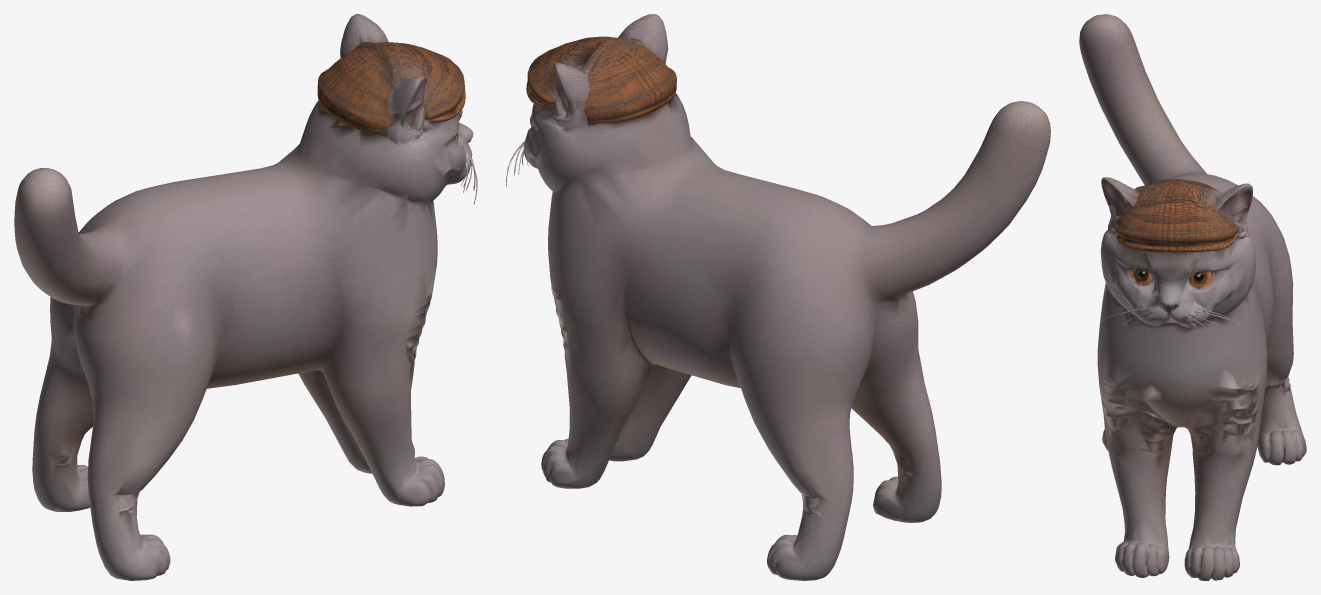
Rendered from TUPPENCE.glb.
3 renders of one model, left to right at view 1: azimuth 30°, elevation 25°; view 2: azimuth 150°, elevation 25°; view 3: azimuth 270°, elevation 25°, orthographic. The views are drawn at different scales.
Visible parts, largest first — view 1: material; view 2: material; view 3: material.
Boxes of the visible parts, x1=… form: material: x1=14, y1=14, x2=477, y2=580; material: x1=506, y1=14, x2=1050, y2=580; material: x1=1079, y1=14, x2=1306, y2=580.
Bounding box in the file's own units: 1.17 × 0.9991 × 0.535.
1 material, 1 textured.
